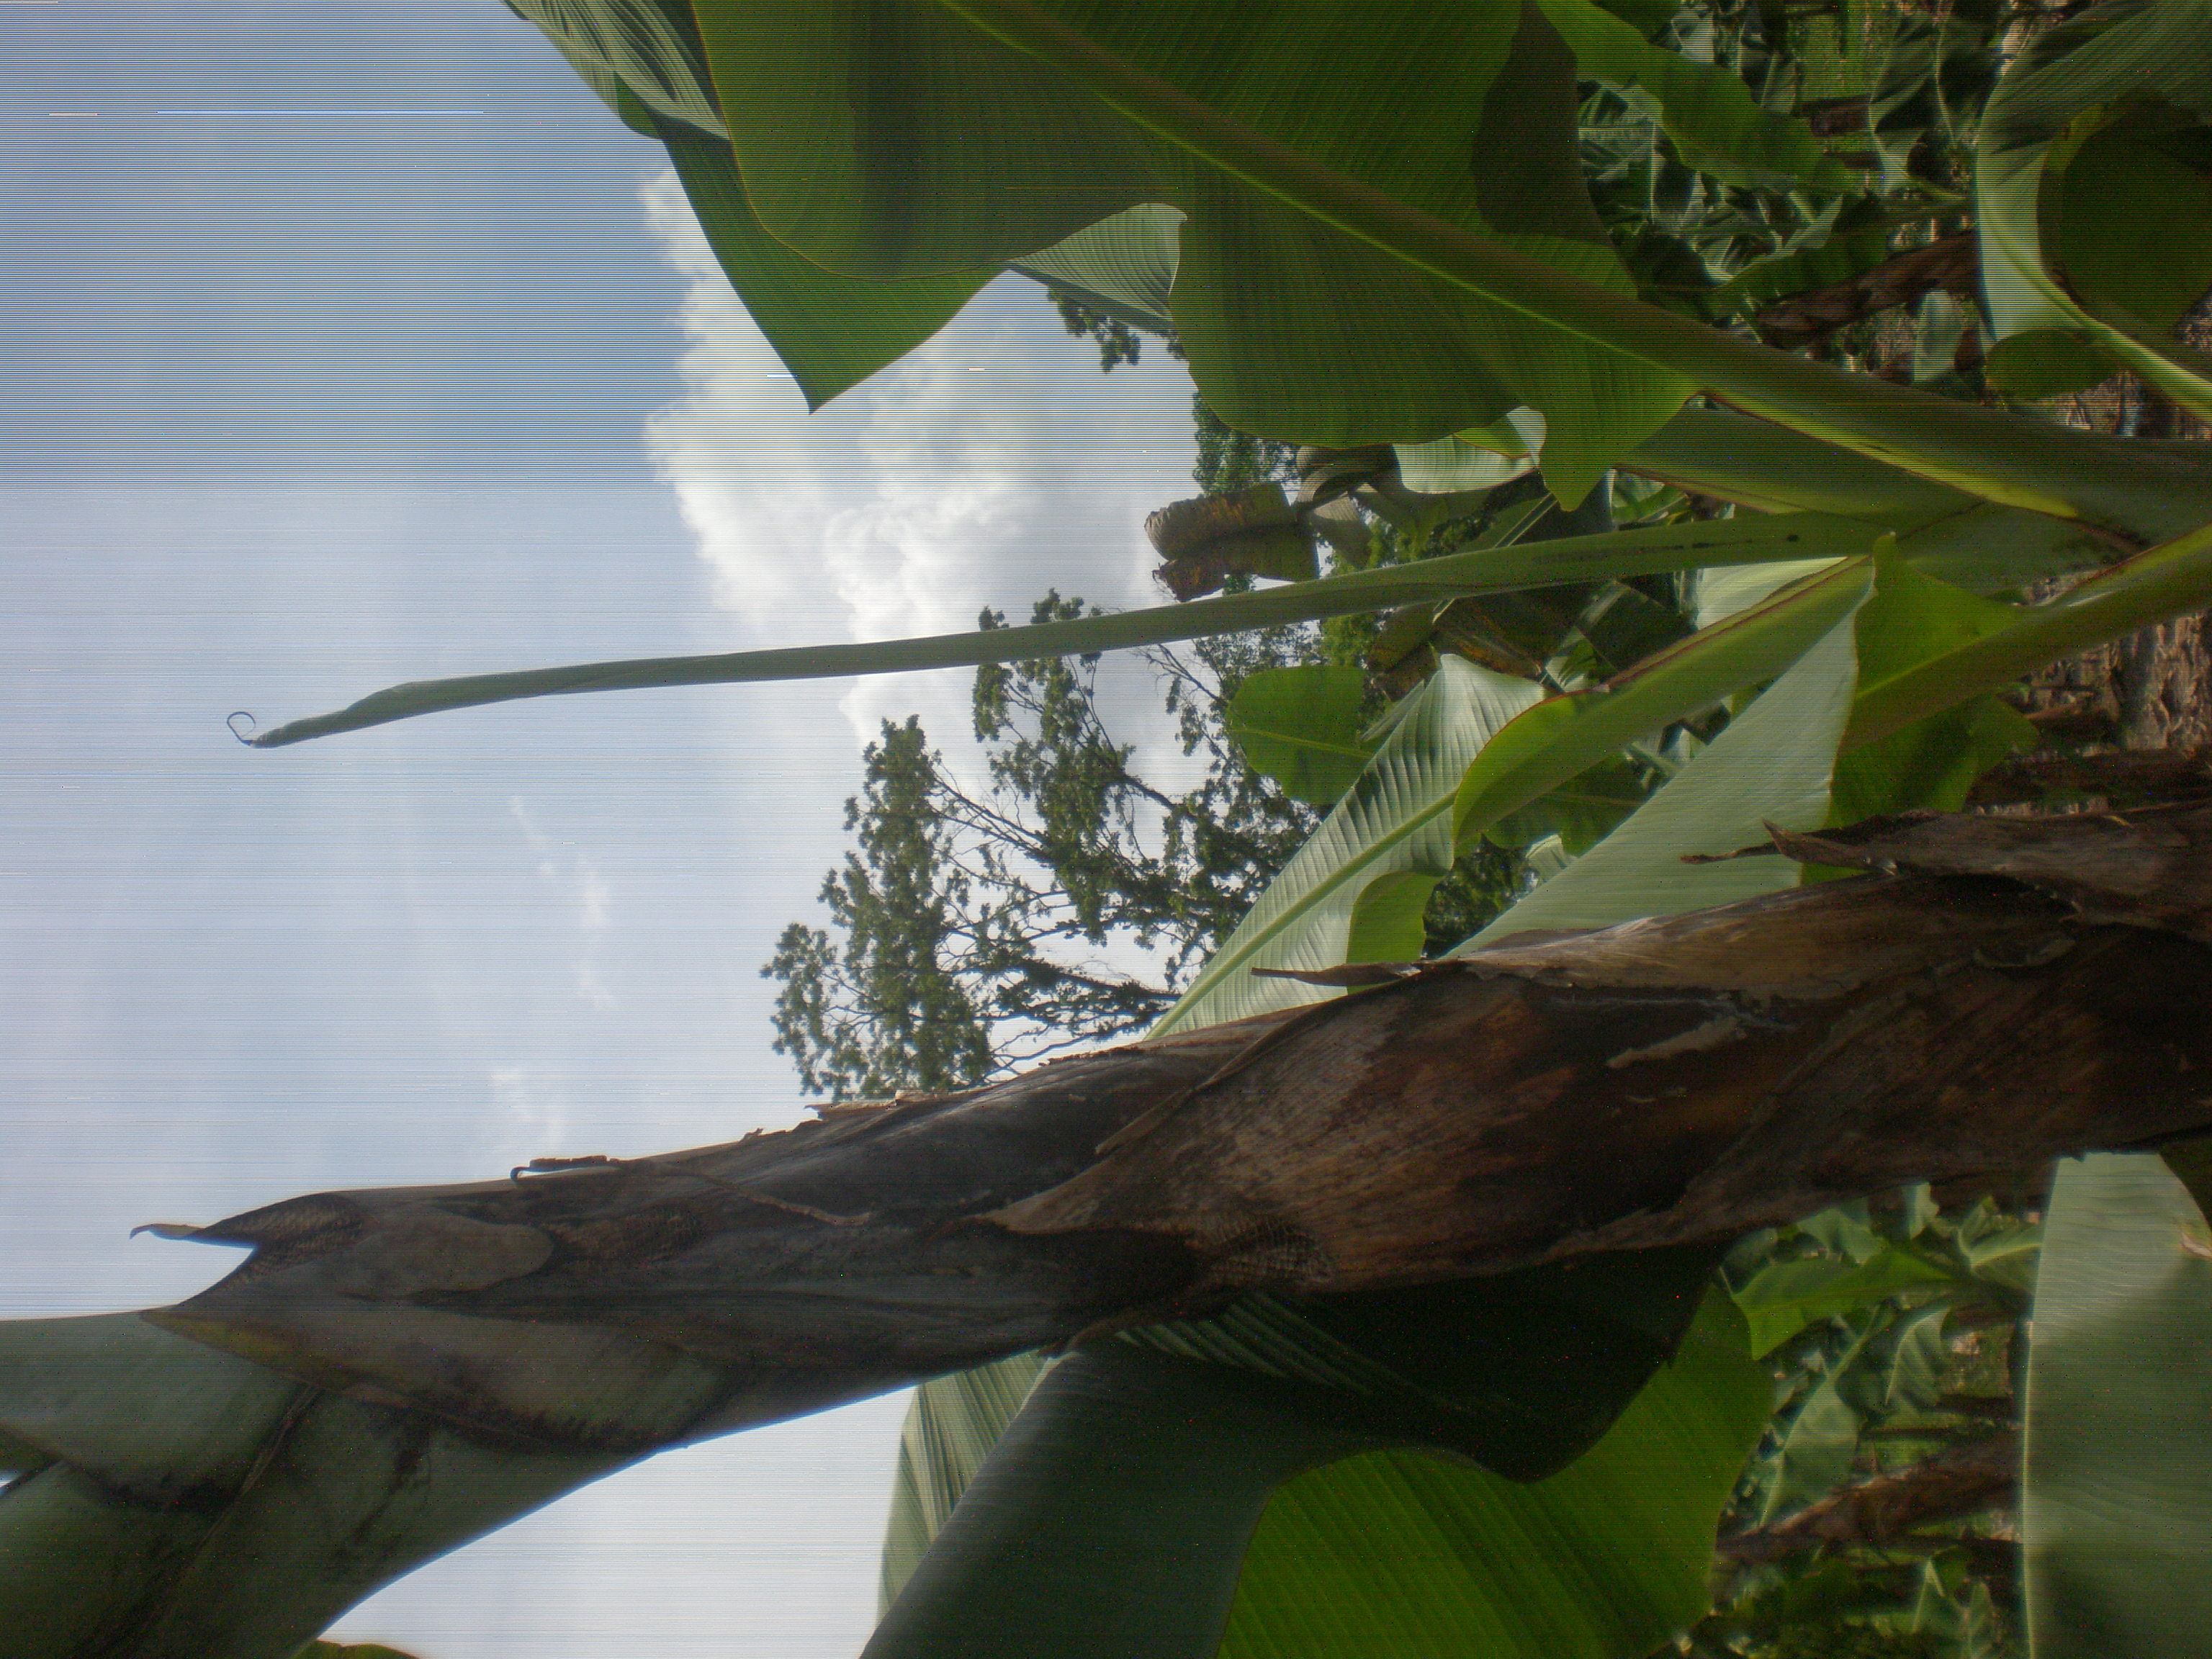candleleafs: (226, 512, 1874, 765)
